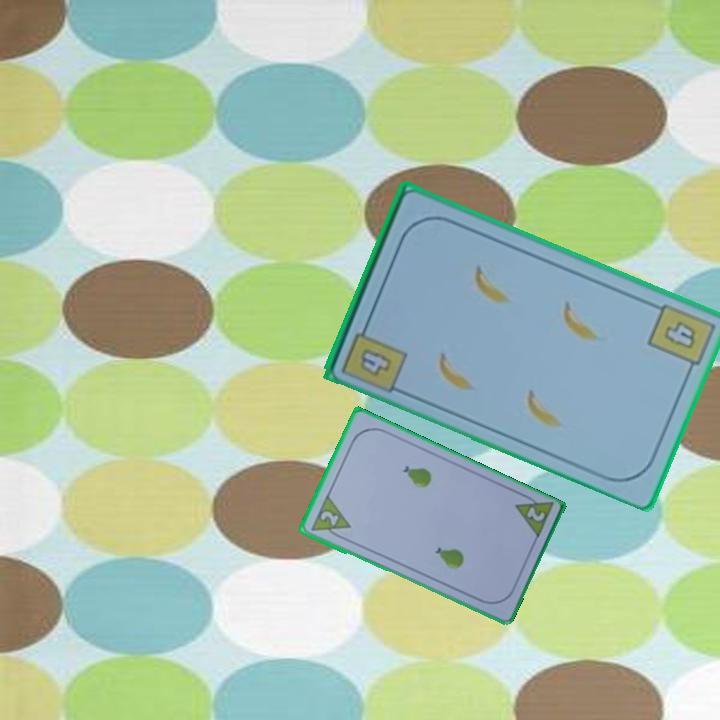2p: (307, 492, 353, 543), (523, 503, 547, 525)
4b: (644, 299, 717, 378), (356, 344, 395, 379)
